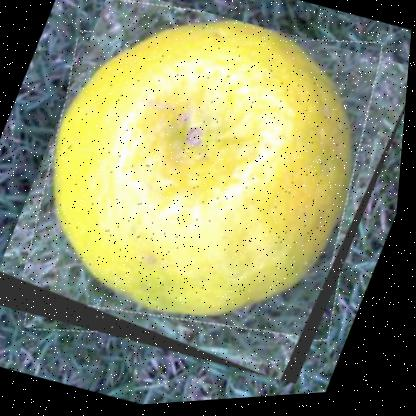orange: (0, 0, 415, 407)
